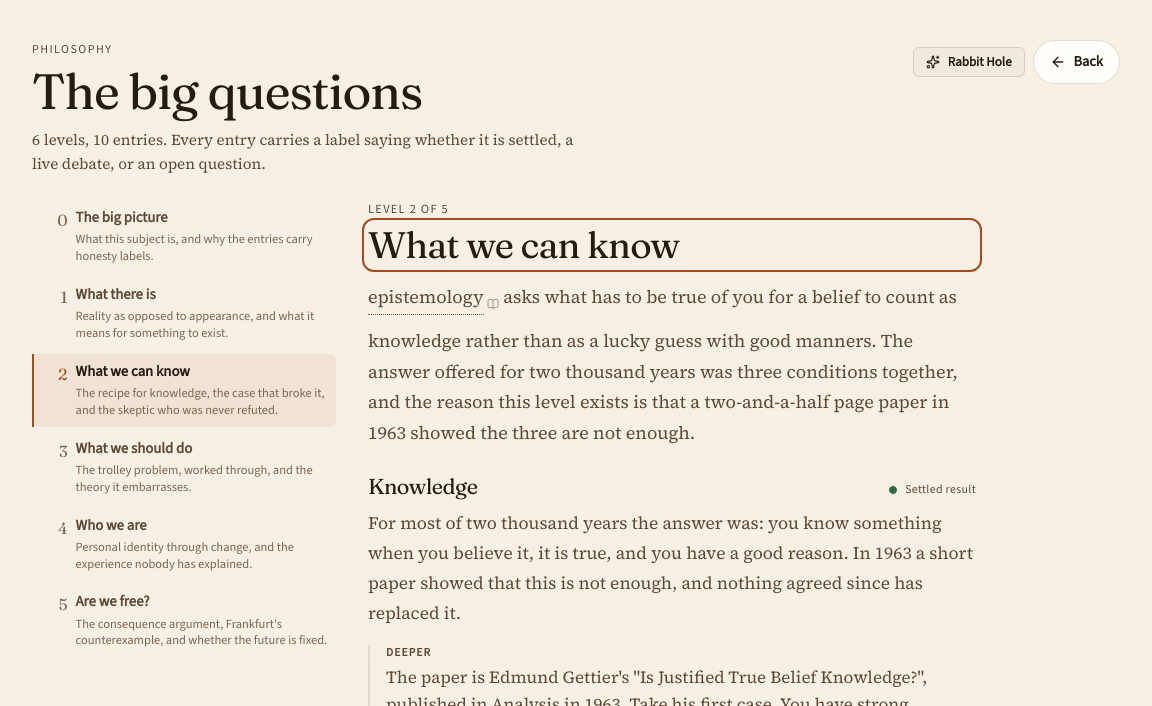
the philosophy deep read › carries its own status vocabulary, not the physics one
Expected: the text "Settled result" is shown, 889,479 -> 976,500
What coordinates should you click on to do the following:
click the button "Are we free?"
I would click on:
 (184, 621)
Its box is 32,584 -> 336,657.
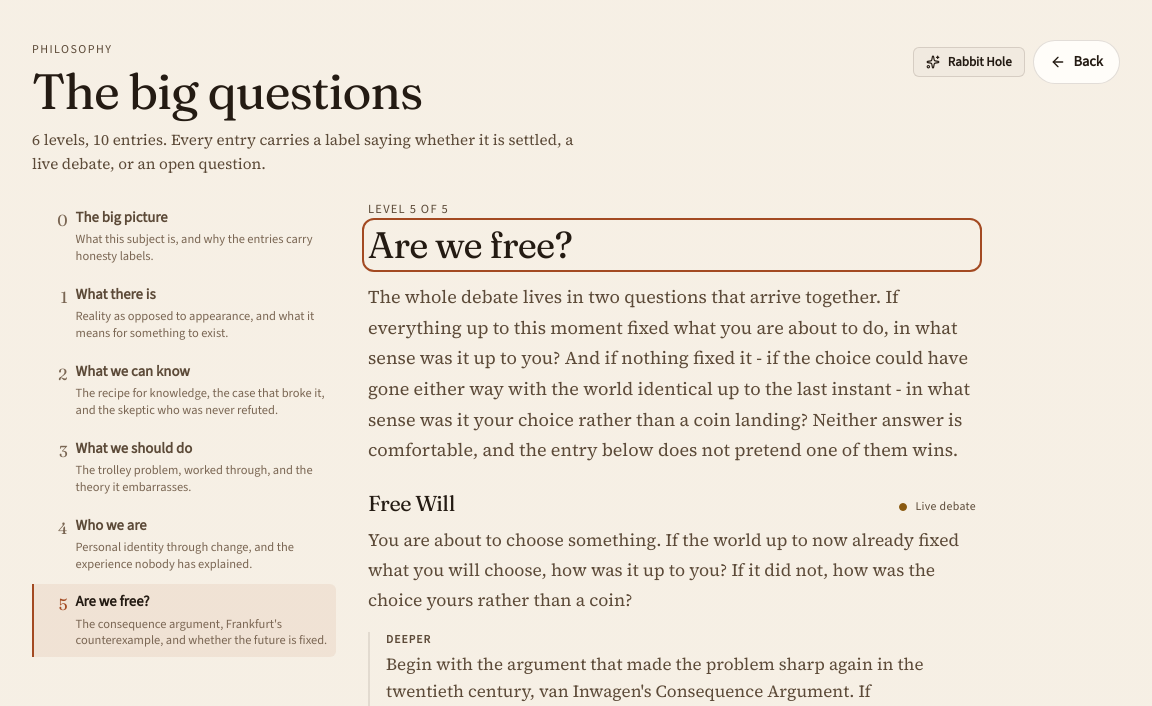
Expected: the text "Live debate" is shown, 899,496 -> 976,517
